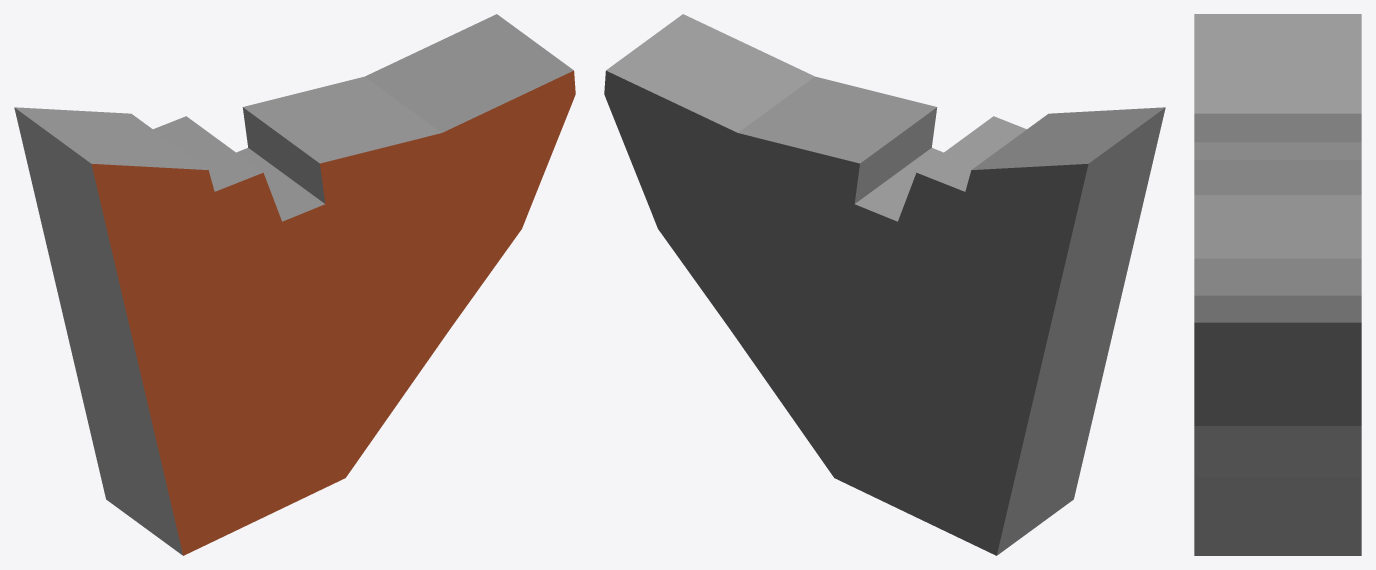
Rendered from construction_3546_assumed_A_Casa_h6m.obj.
3 renders of one model, left to right at view 1: azimuth 30°, elevation 25°; view 2: azimuth 150°, elevation 25°; view 3: azimuth 270°, elevation 25°, orthographic. The views are drawn at different scales.
Visible parts, largest first — view 1: construction_3546_assumed_A_Casa; view 2: construction_3546_assumed_A_Casa; view 3: construction_3546_assumed_A_Casa.
Boxes of the visible parts, box(x1,y1,x2,y2) form: construction_3546_assumed_A_Casa: box(14, 14, 575, 555); construction_3546_assumed_A_Casa: box(604, 14, 1165, 555); construction_3546_assumed_A_Casa: box(1194, 14, 1361, 555).
Bounding box in the file's own units: 21.73 × 17.78 × 6.
